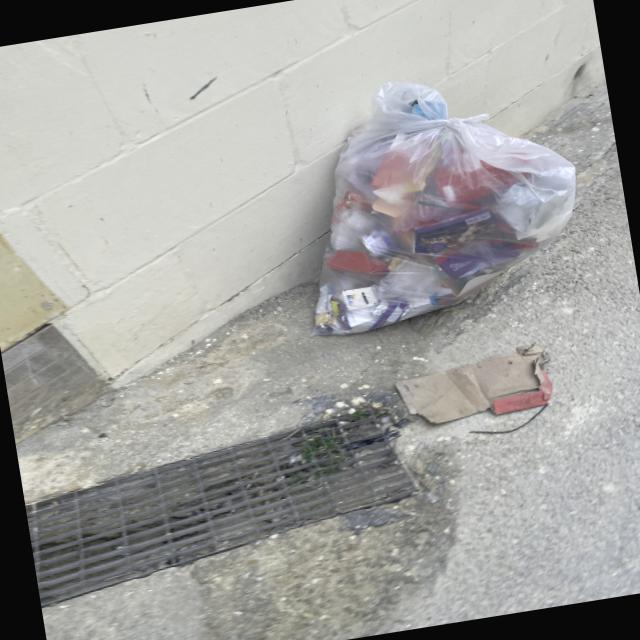grey_bag: (264, 51, 606, 345)
other_waste: (382, 336, 572, 434)
